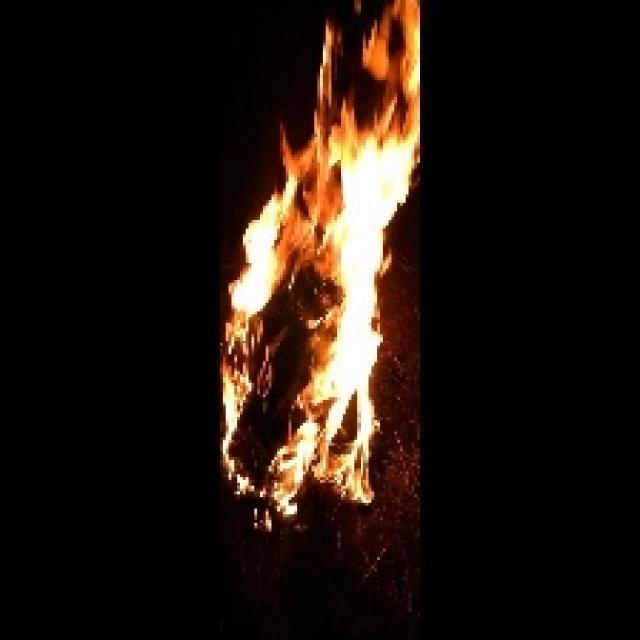Fire: (218, 2, 424, 535)
